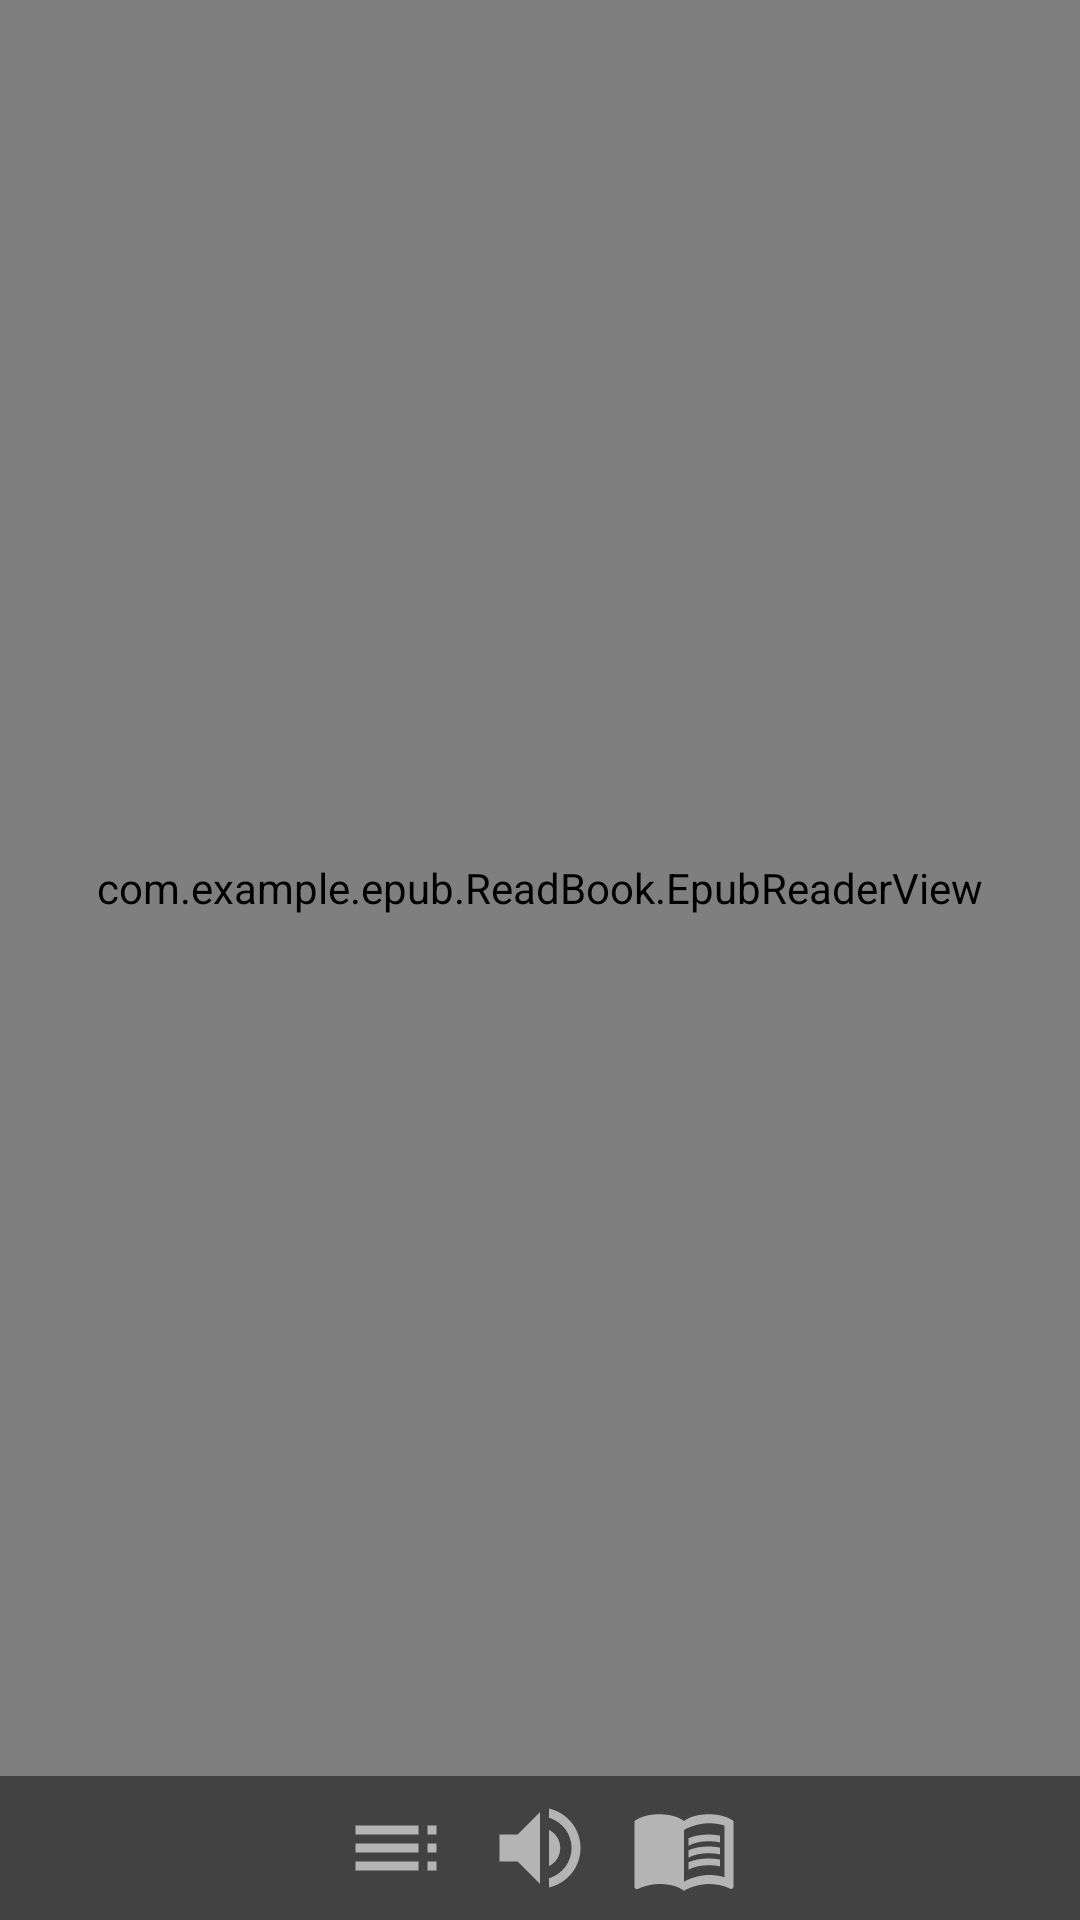

Screen size 1080*1920. Icon name, then its box in pixels as bbox=[x1, y1, x2, y2]:
read mode: bbox=[634, 1814, 734, 1891]
toc: bbox=[355, 1825, 437, 1871]
